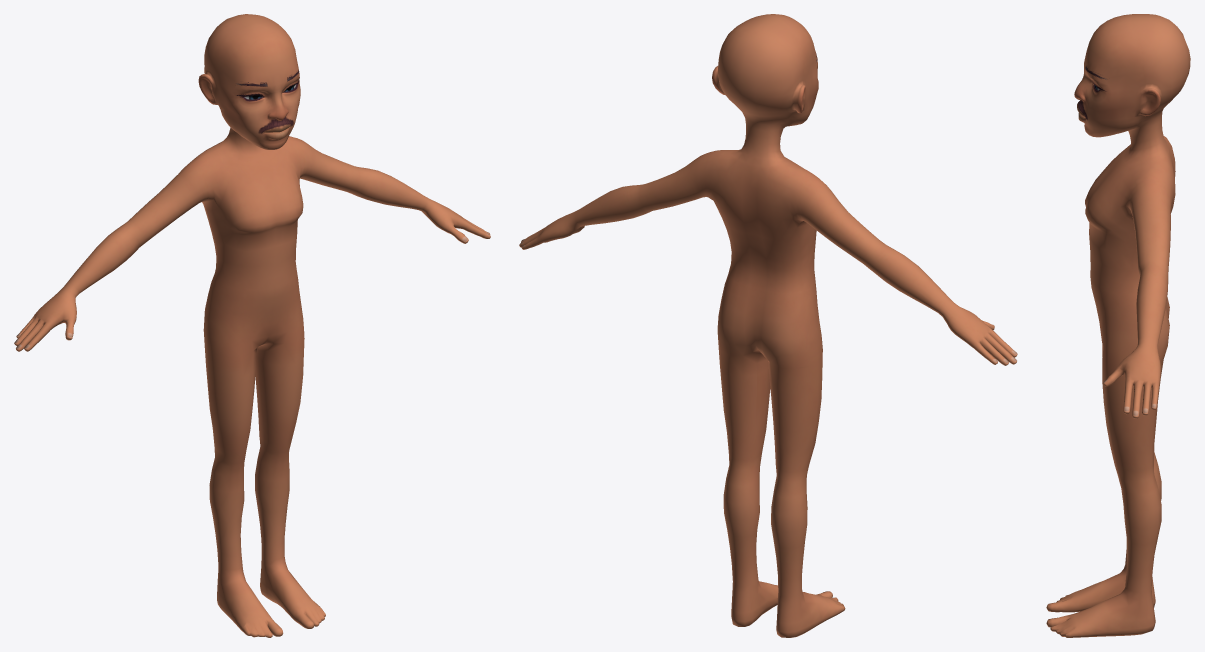
The model's file is frame_0031.glb.
The picture shows the model from 3 angles, left to right: view 1: azimuth 30°, elevation 25°; view 2: azimuth 150°, elevation 25°; view 3: azimuth 270°, elevation 25°; orthographic projection. The views are drawn at different scales.
Parts seen in each view (by area): view 1: frame_0031_head_geo; view 2: frame_0031_head_geo; view 3: frame_0031_head_geo.
Part boxes in pixels (<box>): frame_0031_head_geo: <box>14,14,490,637</box>; frame_0031_head_geo: <box>519,14,1017,637</box>; frame_0031_head_geo: <box>1046,14,1190,637</box>.
Size of the model in its own units: 1.28 by 1.5 by 0.3253.
3 materials, 3 textured.
